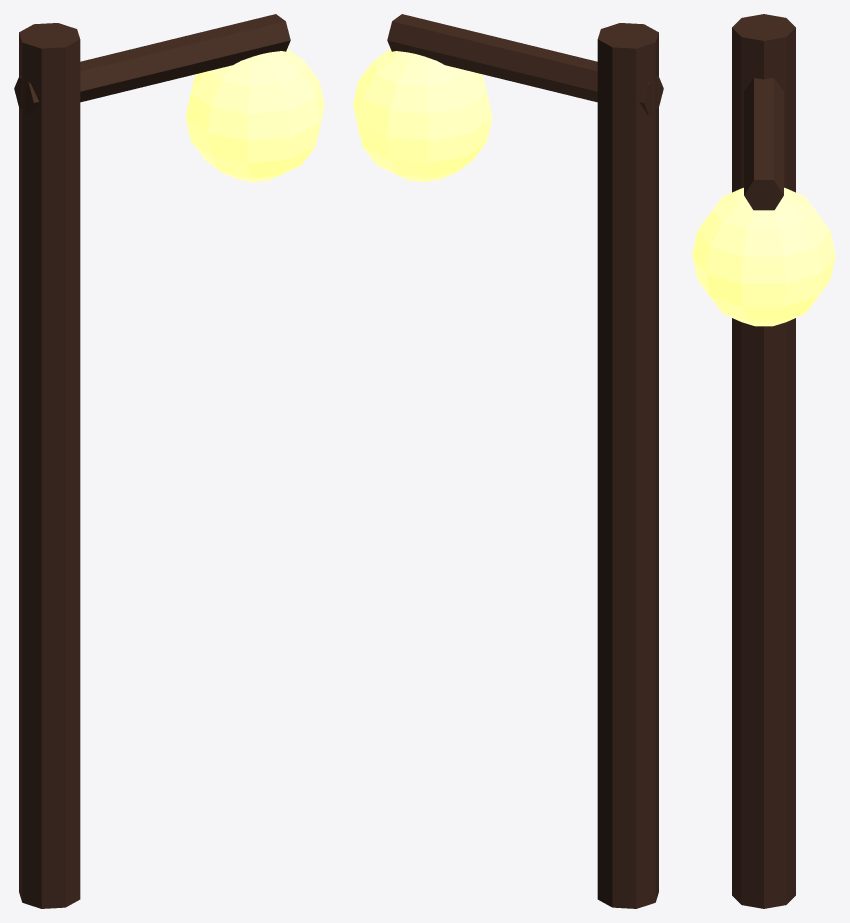
The model's file is farol_madera.glb.
3 views of the same model, side by side, from view 1: azimuth 30°, elevation 25°; view 2: azimuth 150°, elevation 25°; view 3: azimuth 270°, elevation 25° (orthographic).
Parts seen in each view (by area): view 1: Cylinder, Sphere, Cylinder.001; view 2: Cylinder, Sphere, Cylinder.001; view 3: Cylinder, Sphere, Cylinder.001.
Part boxes in pixels (x1,y1,x2,y2): Cylinder: (19, 23, 80, 908); Sphere: (185, 49, 324, 181); Cylinder.001: (14, 14, 290, 114); Cylinder: (597, 23, 658, 908); Sphere: (353, 49, 492, 181); Cylinder.001: (387, 14, 663, 114); Cylinder: (732, 14, 795, 908); Sphere: (692, 187, 835, 326); Cylinder.001: (744, 78, 783, 210).
Bounding box in the file's own units: 0.8512 × 2.4 × 0.36.
